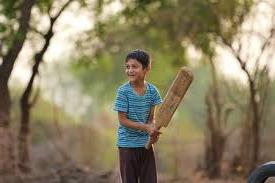Human: (111, 45, 187, 183)
